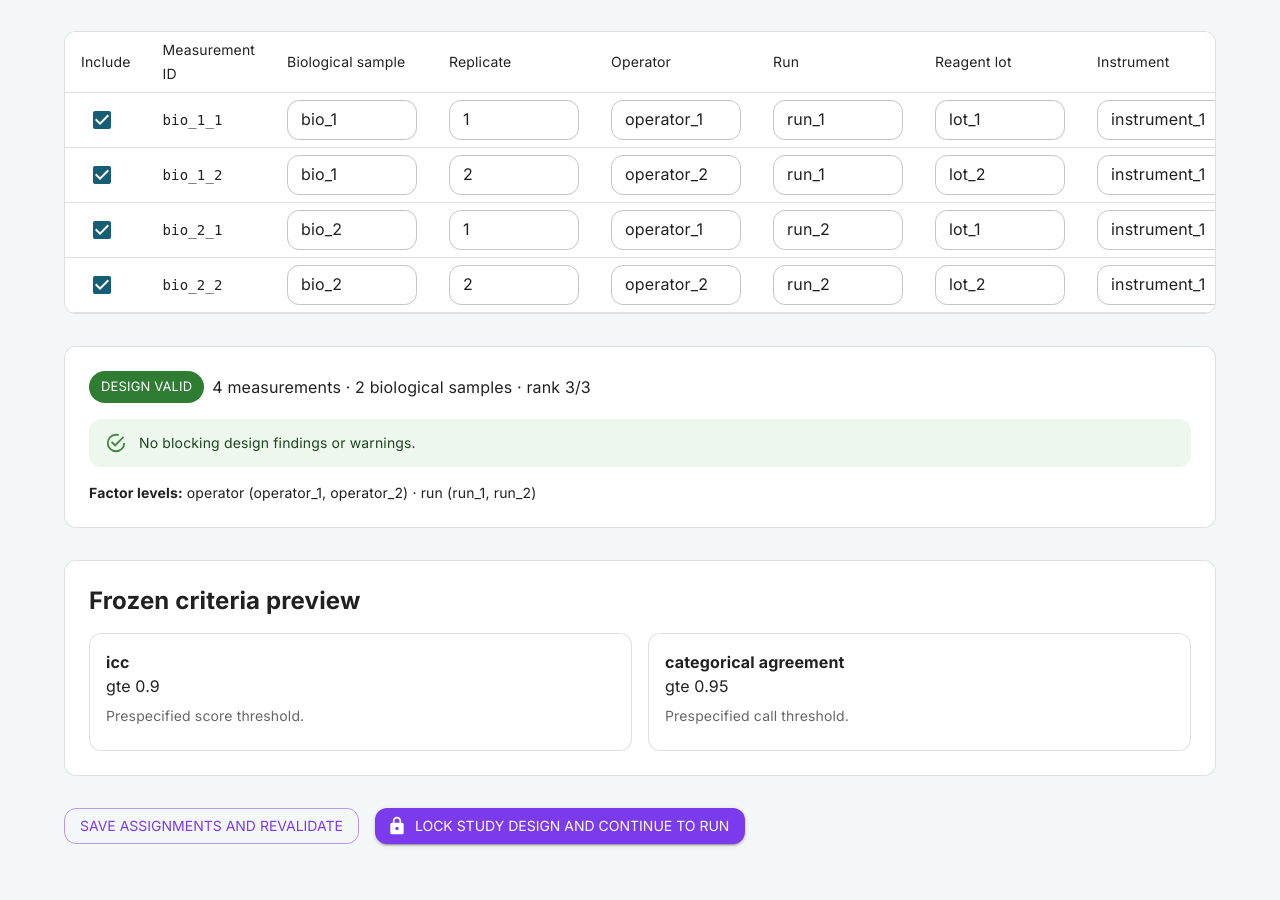
Test case: makes immutable lock and the subsequent run action explicit
(page scrolled)
Click the button "Lock study design and continue to run". click: click(560, 826)
box: [375, 808, 745, 844]
(page scrolled)
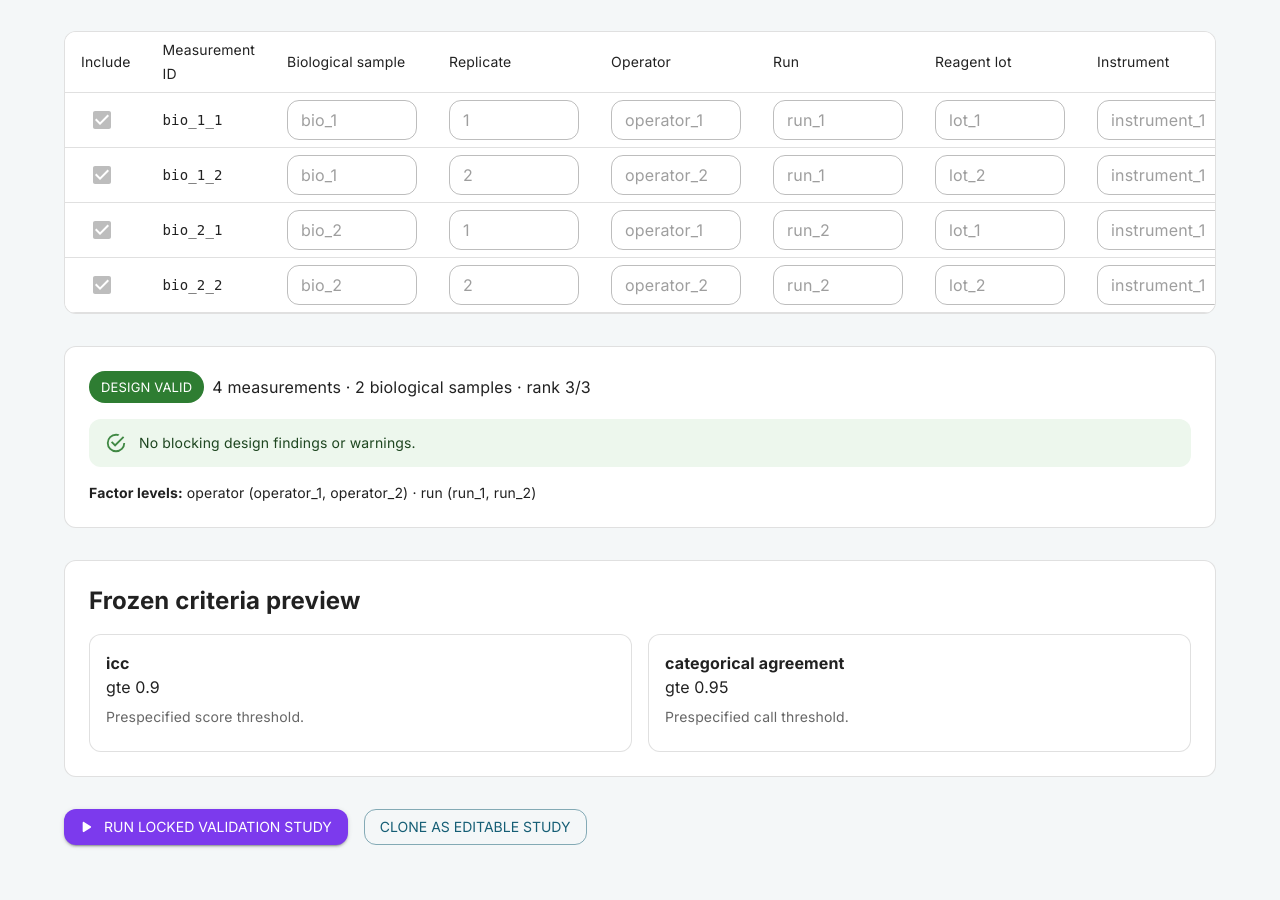
Expected: the button "Run locked validation study" is shown, [64, 808, 348, 845]
